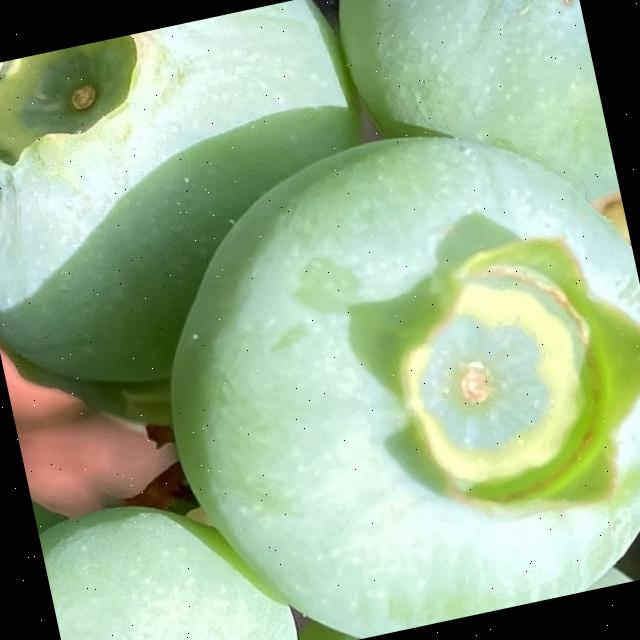Blueberries: (121, 80, 640, 640), (33, 456, 319, 640)
